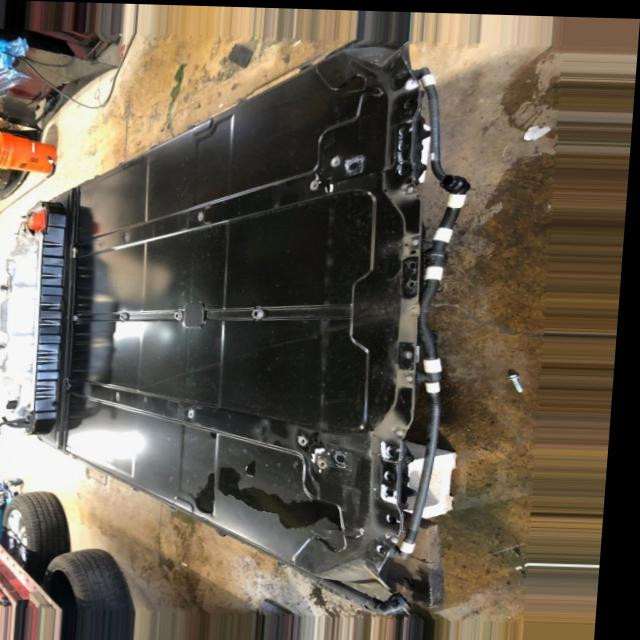Nut: (247, 299, 275, 322), (115, 309, 139, 325), (173, 305, 188, 325), (405, 345, 418, 364), (73, 311, 84, 324)
Screw: (187, 203, 212, 230), (117, 225, 137, 248), (295, 434, 320, 449), (327, 150, 345, 169), (308, 173, 324, 193), (111, 387, 128, 405), (318, 453, 337, 469), (185, 405, 203, 421)
